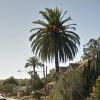Tree: (26, 5, 84, 71)
